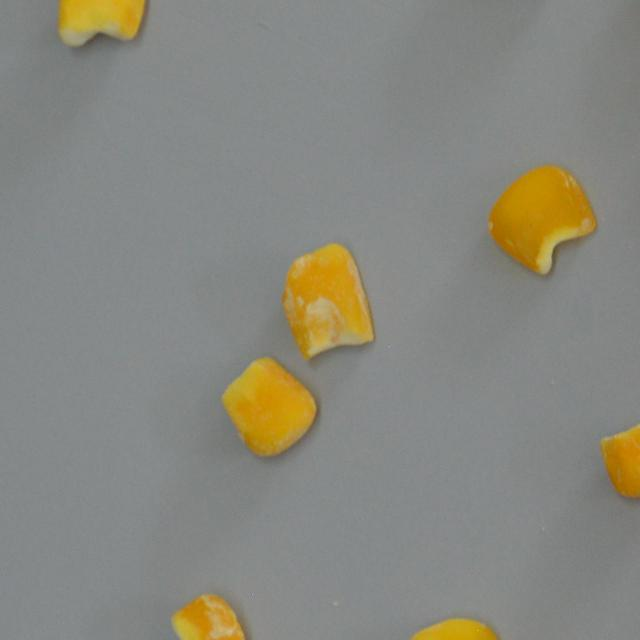dañado: (483, 156, 599, 285), (278, 242, 376, 363), (218, 354, 321, 460), (167, 590, 250, 640), (597, 420, 640, 502), (398, 614, 508, 640)
no_desgerminado: (55, 0, 152, 52)
